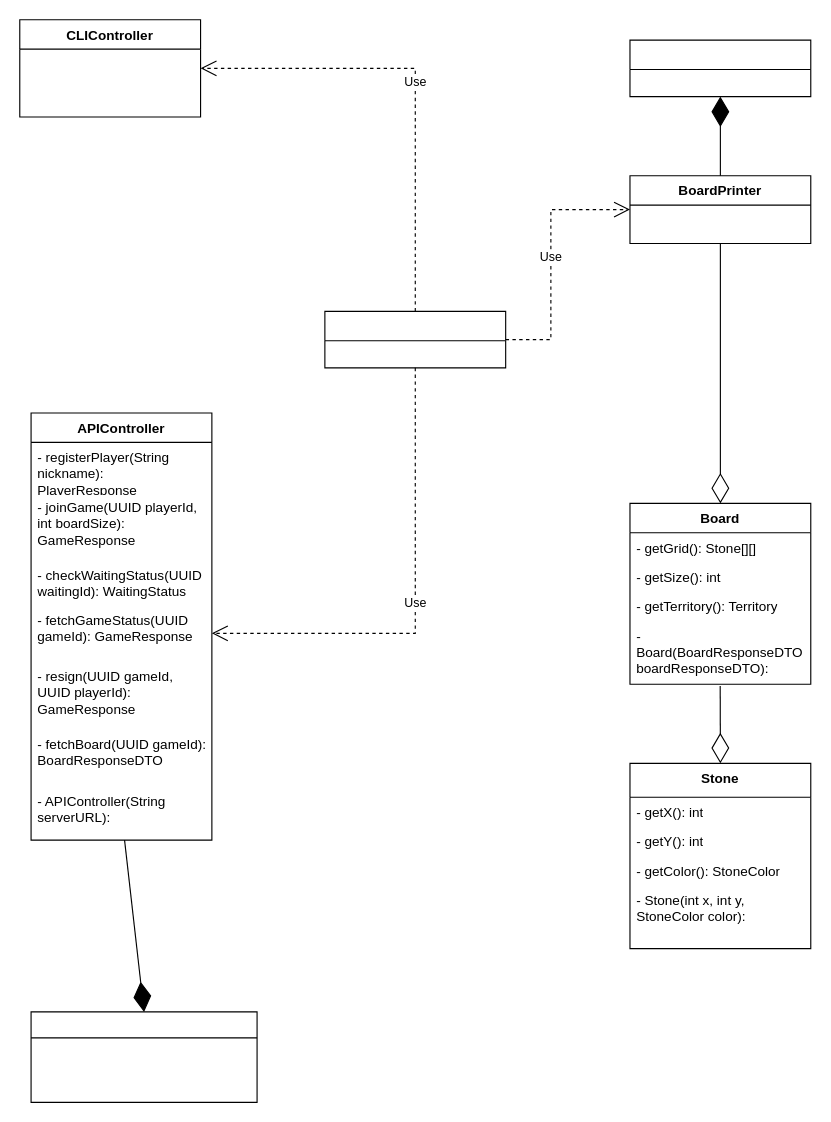
Image size: 831x1122. Some labels were removed from this diagram. Each missing label, with the box of its shape:
All DTO Records: (30, 1011, 257, 1102)
BoardCharacters: (629, 39, 811, 97)
Main: (324, 310, 506, 368)
